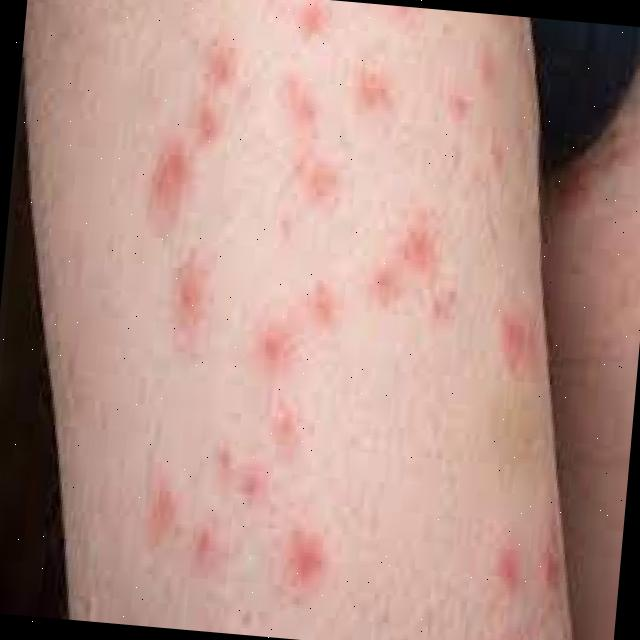kan emici bocekler: (91, 1, 515, 615), (474, 319, 539, 623), (528, 543, 563, 606)
